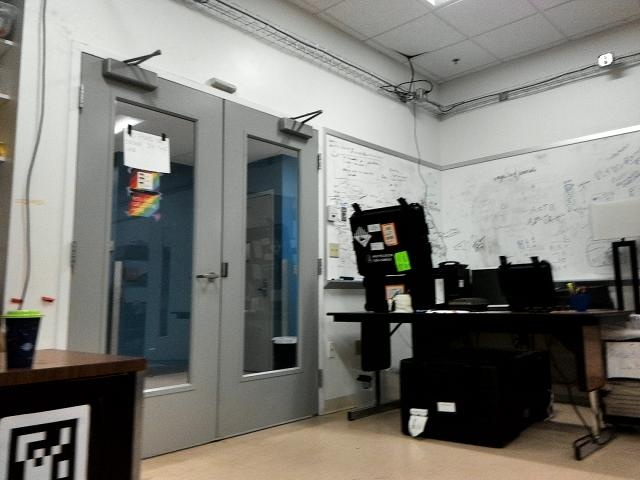useless_cup: (2, 309, 43, 369)
